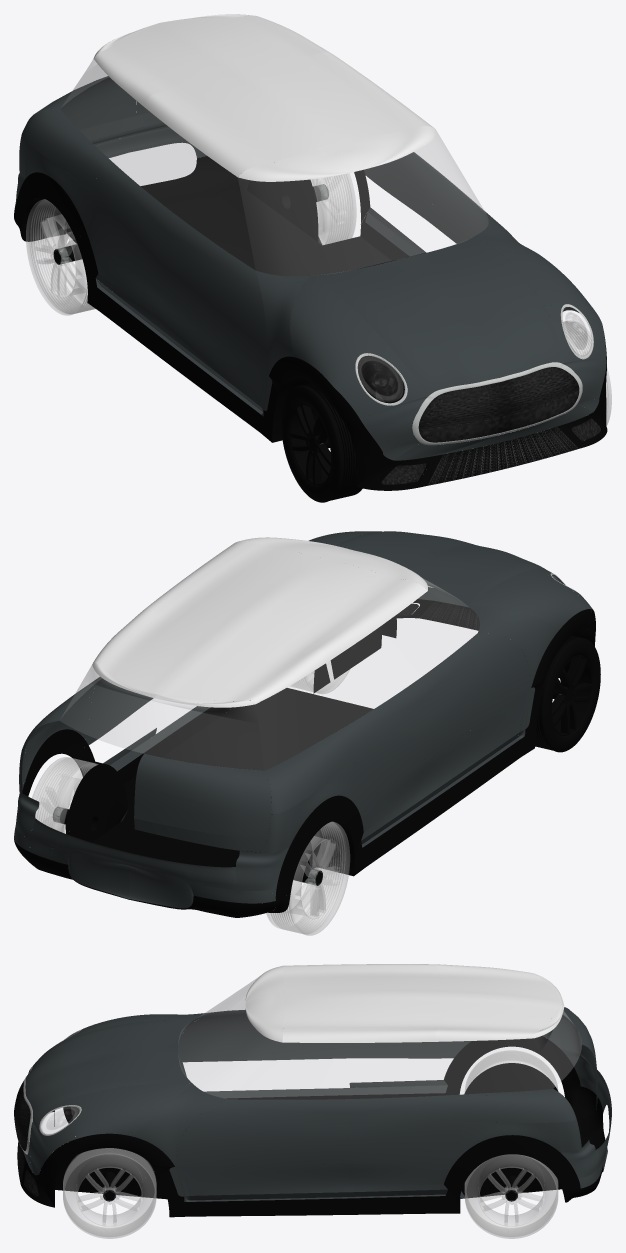
The model's file is minisite.glb.
3 renders of one model, top to bottom at view 1: azimuth 30°, elevation 25°; view 2: azimuth 150°, elevation 25°; view 3: azimuth 270°, elevation 25°, orthographic. The views are drawn at different scales.
Visible parts, largest first — view 1: take3(8CA1B32D-0C78-4F49-AE61-93438CB256AA), cladding2(E08CA0B5-E9F0-48C7-B093-7DD4E27FDA72), glass(53DAB79C-17B2-4AC0-A4AB-29CCD91A0532), take3(4AF4143A-5C98-42B1-B847-249404EACC3A), glass(9568CD76-DA25-47B3-8A9B-B654D0BB65ED), take3(0F3C47E8-0C04-4831-B310-76AD35F74692), take3(C4460C16-CDFB-452B-8BB6-438187570D96), glass(7D5BF8B5-8888-4122-A4A8-786EB0CF4D26), take3(08EF6499-EEBF-4AEB-899D-CEA87746E9BE), take3(1F5EE099-D0D4-481C-B5DD-EB5BBBA15FC8), take3(3F8A49A1-079E-49DB-B1AE-B34041DAFD60), take3(39F9ABEF-542B-4504-ADB7-88C554CD3445) (+43 smaller); view 2: take3(8CA1B32D-0C78-4F49-AE61-93438CB256AA), cladding2(E08CA0B5-E9F0-48C7-B093-7DD4E27FDA72), glass(9568CD76-DA25-47B3-8A9B-B654D0BB65ED), take3(46EBD2DB-7B7C-40E3-B9A2-62668E4A7789), take3(C4460C16-CDFB-452B-8BB6-438187570D96), take3(1F5EE099-D0D4-481C-B5DD-EB5BBBA15FC8), glass(D851C21B-EF51-460A-8860-33BB4D6FEC42), take3(08EF6499-EEBF-4AEB-899D-CEA87746E9BE), take3(39F9ABEF-542B-4504-ADB7-88C554CD3445), take3(4AF4143A-5C98-42B1-B847-249404EACC3A), glass(9FEE1E4F-6046-412A-985E-41F704837683), take3(3F8A49A1-079E-49DB-B1AE-B34041DAFD60) (+36 smaller); view 3: take3(8CA1B32D-0C78-4F49-AE61-93438CB256AA), glass(253D18CE-DBC2-452A-B3FB-DA77E94CEF70), take3(DF91739C-6A05-4D56-8C86-1D63E2CBE2BD), take3(2914057F-7BF9-4910-B16E-033636DAC793), take3(004E92A4-E1F1-4BBF-85C6-C5D5ADC3AA66), take3(0F3C47E8-0C04-4831-B310-76AD35F74692), glass(7D5BF8B5-8888-4122-A4A8-786EB0CF4D26), take3(0BF77DEA-C1CB-4814-93A5-0087E2BC650D), take3(C4460C16-CDFB-452B-8BB6-438187570D96), cladding2(694D823B-0DB7-4C90-BE95-C5B0F2958D28), take3(4AF4143A-5C98-42B1-B847-249404EACC3A), take3(1EFB943D-3C45-46AF-8F29-62A6ABE4E811) (+54 smaller).
Boxes of the visible parts, <box> form: take3(8CA1B32D-0C78-4F49-AE61-93438CB256AA): <box>94,15,433,177</box>; cladding2(E08CA0B5-E9F0-48C7-B093-7DD4E27FDA72): <box>140,156,404,403</box>; glass(53DAB79C-17B2-4AC0-A4AB-29CCD91A0532): <box>238,171,402,275</box>; take3(4AF4143A-5C98-42B1-B847-249404EACC3A): <box>312,258,499,395</box>; glass(9568CD76-DA25-47B3-8A9B-B654D0BB65ED): <box>94,89,255,269</box>; take3(0F3C47E8-0C04-4831-B310-76AD35F74692): <box>403,235,562,377</box>; take3(C4460C16-CDFB-452B-8BB6-438187570D96): <box>157,209,268,375</box>; glass(7D5BF8B5-8888-4122-A4A8-786EB0CF4D26): <box>361,131,488,257</box>; take3(08EF6499-EEBF-4AEB-899D-CEA87746E9BE): <box>281,383,362,502</box>; take3(1F5EE099-D0D4-481C-B5DD-EB5BBBA15FC8): <box>90,159,168,291</box>; take3(3F8A49A1-079E-49DB-B1AE-B34041DAFD60): <box>290,275,386,387</box>; take3(39F9ABEF-542B-4504-ADB7-88C554CD3445): <box>26,199,95,315</box>; take3(8CA1B32D-0C78-4F49-AE61-93438CB256AA): <box>93,541,427,703</box>; cladding2(E08CA0B5-E9F0-48C7-B093-7DD4E27FDA72): <box>31,688,373,917</box>; glass(9568CD76-DA25-47B3-8A9B-B654D0BB65ED): <box>306,591,476,741</box>; take3(46EBD2DB-7B7C-40E3-B9A2-62668E4A7789): <box>134,754,271,852</box>; take3(C4460C16-CDFB-452B-8BB6-438187570D96): <box>404,633,531,762</box>; take3(1F5EE099-D0D4-481C-B5DD-EB5BBBA15FC8): <box>340,689,424,810</box>; glass(D851C21B-EF51-460A-8860-33BB4D6FEC42): <box>144,703,263,770</box>; take3(08EF6499-EEBF-4AEB-899D-CEA87746E9BE): <box>535,635,600,752</box>; take3(39F9ABEF-542B-4504-ADB7-88C554CD3445): <box>266,821,349,935</box>; take3(4AF4143A-5C98-42B1-B847-249404EACC3A): <box>407,544,545,605</box>; glass(9FEE1E4F-6046-412A-985E-41F704837683): <box>60,681,158,753</box>; take3(3F8A49A1-079E-49DB-B1AE-B34041DAFD60): <box>468,569,590,630</box>; take3(8CA1B32D-0C78-4F49-AE61-93438CB256AA): <box>282,964,561,1042</box>; glass(253D18CE-DBC2-452A-B3FB-DA77E94CEF70): <box>229,1041,483,1099</box>; take3(DF91739C-6A05-4D56-8C86-1D63E2CBE2BD): <box>175,1099,355,1166</box>; take3(2914057F-7BF9-4910-B16E-033636DAC793): <box>347,1095,454,1163</box>; take3(004E92A4-E1F1-4BBF-85C6-C5D5ADC3AA66): <box>63,1148,156,1238</box>; take3(0F3C47E8-0C04-4831-B310-76AD35F74692): <box>25,1049,192,1116</box>; glass(7D5BF8B5-8888-4122-A4A8-786EB0CF4D26): <box>178,1005,281,1098</box>; take3(0BF77DEA-C1CB-4814-93A5-0087E2BC650D): <box>464,1154,558,1238</box>; take3(C4460C16-CDFB-452B-8BB6-438187570D96): <box>178,1010,347,1062</box>; cladding2(694D823B-0DB7-4C90-BE95-C5B0F2958D28): <box>190,1196,459,1216</box>; take3(4AF4143A-5C98-42B1-B847-249404EACC3A): <box>25,1020,192,1086</box>; take3(1EFB943D-3C45-46AF-8F29-62A6ABE4E811): <box>75,1083,192,1139</box>.
Size of the model in its own units: 3.61 by 3.02 by 8.47.
246 materials, 9 textured.
